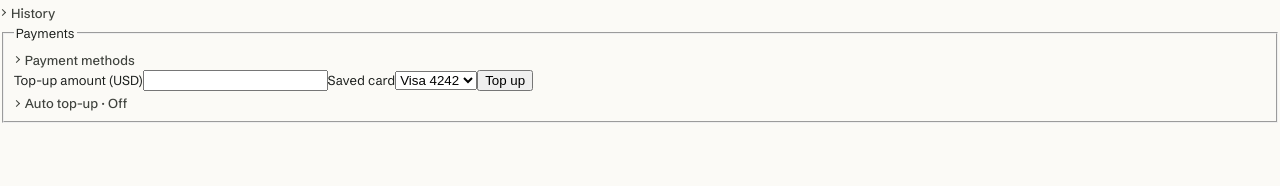
Test: self-care account tools › refuses a top-up of 0 before sending anything
The image size is (1280, 186).
In the field labelled "Top-up amount (USD)": x=235, y=80 [143,70,328,90], type "0"
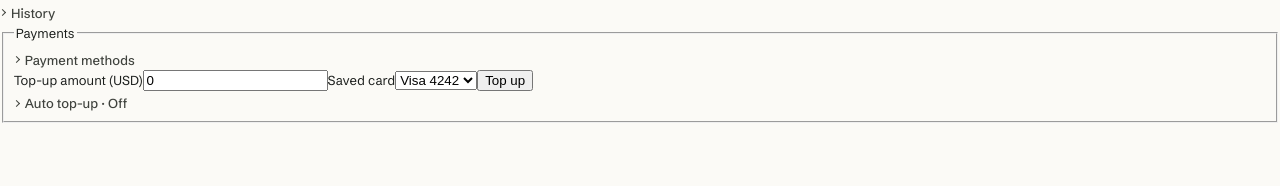
Click the button "Top up": x=505, y=80 [477,70,533,90]
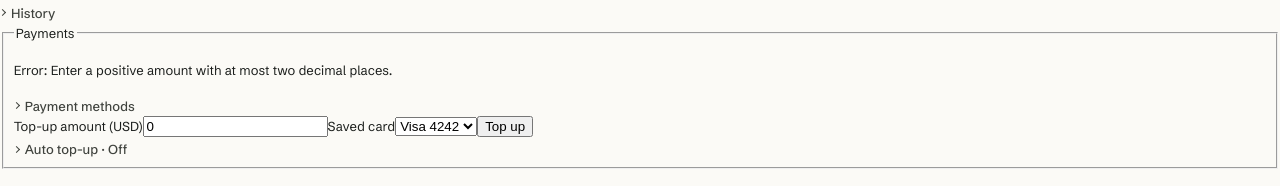
Expected: the message reads "Error: Enter a positive amount with at most two decimal places.", [14,62,393,78]
